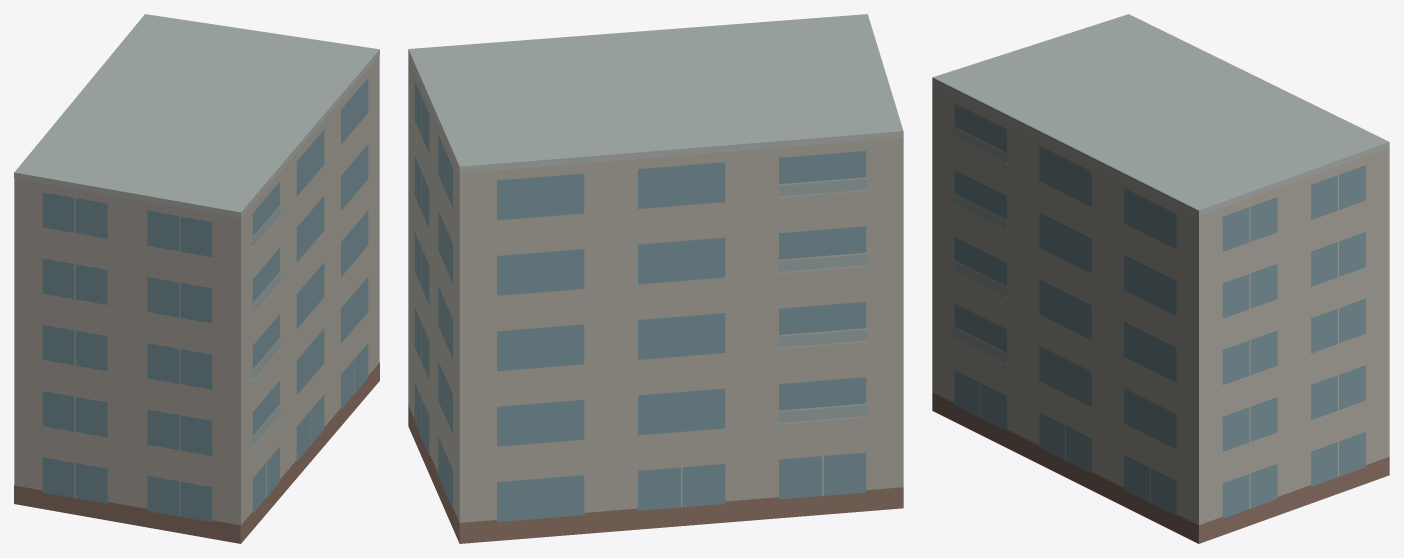
Rendered from survey-upis-32739207.glb.
3 views of the same model, side by side, from view 1: azimuth 30°, elevation 25°; view 2: azimuth 150°, elevation 25°; view 3: azimuth 270°, elevation 25° (orthographic). The views are drawn at different scales.
Parts seen in each view (by area): view 1: survey-upis-32739207.tmp; view 2: survey-upis-32739207.tmp; view 3: survey-upis-32739207.tmp.
Boxes of the visible parts, box(x1,y1,x2,y2) form: survey-upis-32739207.tmp: box(14, 14, 379, 543); survey-upis-32739207.tmp: box(408, 14, 903, 543); survey-upis-32739207.tmp: box(932, 14, 1389, 543).
Bounding box in the file's own units: 17.55 × 13.88 × 17.25.
